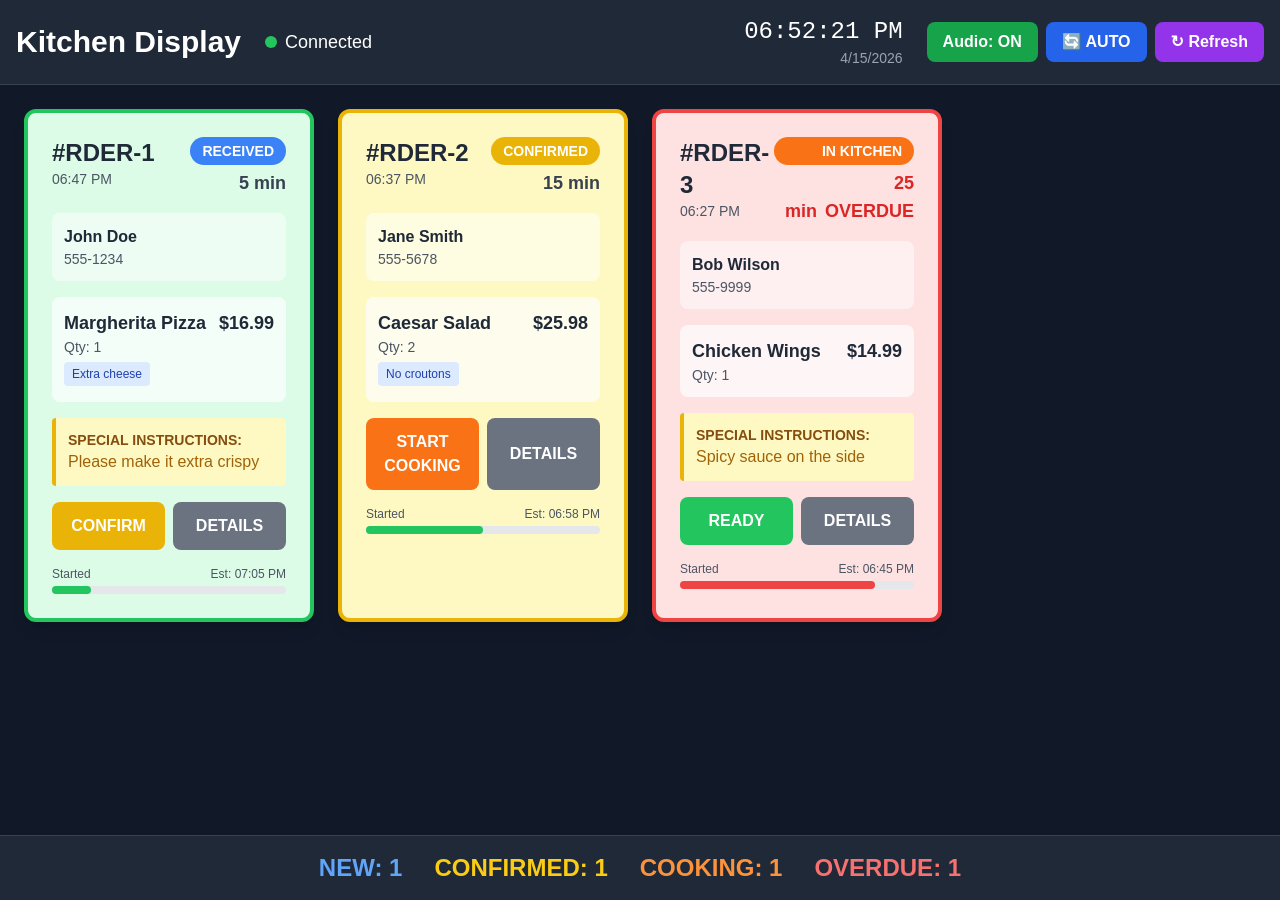
Scenario: KitchenDisplay › Audio Alerts › can toggle audio alerts
The image size is (1280, 900).
Click the button "Audio: ON": x=982, y=42 927,22 -> 1038,62
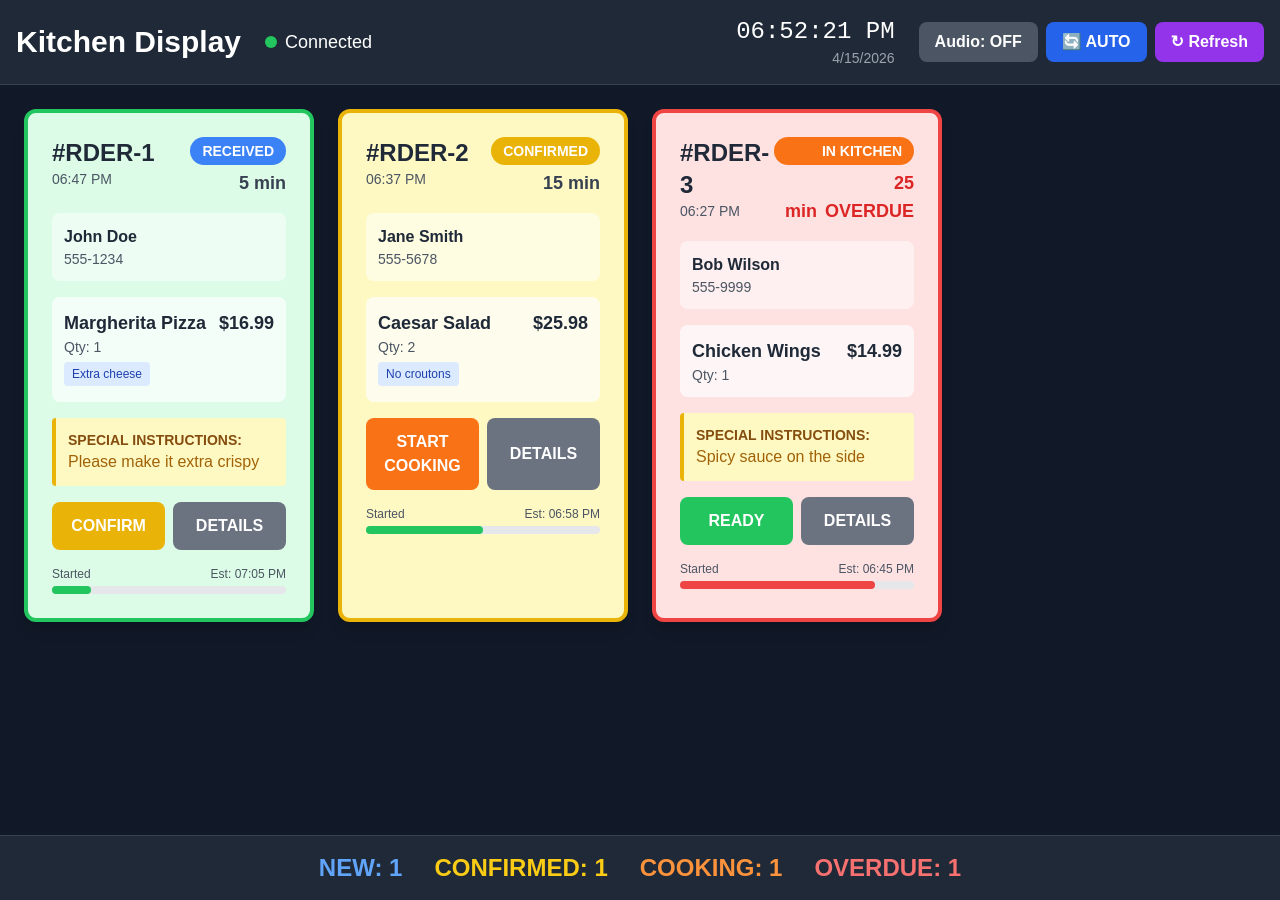
expect the button "Audio: OFF" is shown: met, box 919,22 -> 1038,62
